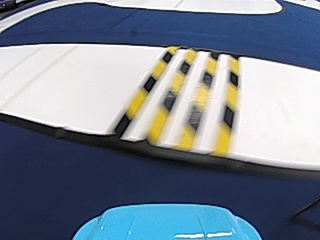bump: (118, 47, 245, 149)
